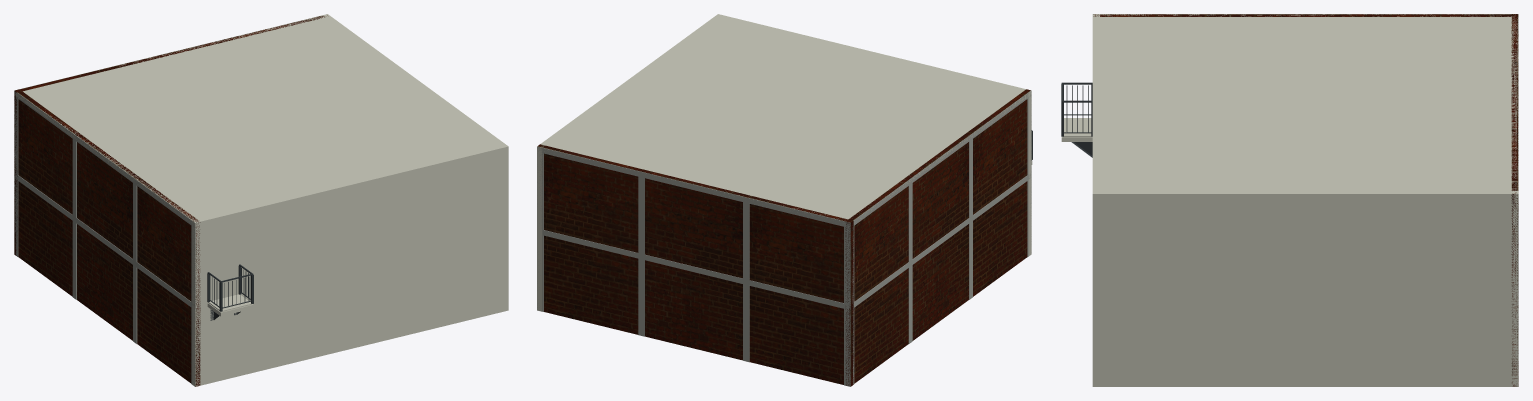
The model's file is building.glb.
3 views of the same model, side by side, from view 1: azimuth 30°, elevation 25°; view 2: azimuth 150°, elevation 25°; view 3: azimuth 270°, elevation 25° (orthographic). The views are drawn at different scales.
Parts seen in each view (by area): view 1: roof/house:0/roof_slab#0001, house:0/edge0/z0/house:0/edge0/z0/wall_0_0, house:0/edge3/z0/house:0/edge3/z0/wall_0_0, house:0/edge2/z0/house:0/edge2/z0/wall_0_0, house:0/edge3/z0/house:0/edge3/z0/beam_0_0, house:0/edge3/z0/house:0/edge3/z0/beam_1_0, house:0/edge1/z0/house:0/edge1/z0/wall_0_0, balcony/sample/balcony_platform#0001; view 2: roof/house:0/roof_slab#0001, house:0/edge2/z0/house:0/edge2/z0/wall_0_0, house:0/edge3/z0/house:0/edge3/z0/wall_0_0, house:0/edge1/z0/house:0/edge1/z0/wall_0_0, house:0/edge2/z0/house:0/edge2/z0/beam_1_0, house:0/edge2/z0/house:0/edge2/z0/beam_0_0, house:0/edge0/z0/house:0/edge0/z0/wall_0_0, house:0/edge3/z0/house:0/edge3/z0/beam_0_0, house:0/edge3/z0/house:0/edge3/z0/beam_1_0, house:0/edge2/z0/house:0/edge2/z0/column_2_0, house:0/edge2/z0/house:0/edge2/z0/column_2_1, house:0/edge2/z0/house:0/edge2/z0/column_3_0 (+3 smaller); view 3: house:0/edge1/z0/house:0/edge1/z0/wall_0_0, roof/house:0/roof_slab#0001, house:0/edge0/z0/house:0/edge0/z0/wall_0_0, house:0/edge2/z0/house:0/edge2/z0/wall_0_0, house:0/edge3/z0/house:0/edge3/z0/wall_0_0, balcony/sample/balcony_platform#0001.
Boxes of the visible parts, x1,y1,x2,y2 form: roof/house:0/roof_slab#0001: (15,14,506,225); house:0/edge0/z0/house:0/edge0/z0/wall_0_0: (192,144,508,386); house:0/edge3/z0/house:0/edge3/z0/wall_0_0: (17,89,200,386); house:0/edge2/z0/house:0/edge2/z0/wall_0_0: (14,15,327,255); house:0/edge3/z0/house:0/edge3/z0/beam_0_0: (14,173,195,309); house:0/edge3/z0/house:0/edge3/z0/beam_1_0: (14,92,195,227); house:0/edge1/z0/house:0/edge1/z0/wall_0_0: (323,14,508,311); balcony/sample/balcony_platform#0001: (208,294,252,312); roof/house:0/roof_slab#0001: (540,14,1031,223); house:0/edge2/z0/house:0/edge2/z0/wall_0_0: (538,144,853,386); house:0/edge3/z0/house:0/edge3/z0/wall_0_0: (845,89,1030,385); house:0/edge1/z0/house:0/edge1/z0/wall_0_0: (537,15,722,311); house:0/edge2/z0/house:0/edge2/z0/beam_1_0: (538,147,850,228); house:0/edge2/z0/house:0/edge2/z0/beam_0_0: (542,230,850,309); house:0/edge0/z0/house:0/edge0/z0/wall_0_0: (717,14,1031,256); house:0/edge3/z0/house:0/edge3/z0/beam_0_0: (850,172,1031,309); house:0/edge3/z0/house:0/edge3/z0/beam_1_0: (850,90,1031,227); house:0/edge2/z0/house:0/edge2/z0/column_2_0: (638,176,644,254); house:0/edge2/z0/house:0/edge2/z0/column_2_1: (638,258,644,336); house:0/edge2/z0/house:0/edge2/z0/column_3_0: (743,202,749,280); house:0/edge1/z0/house:0/edge1/z0/wall_0_0: (1092,191,1518,386); roof/house:0/roof_slab#0001: (1092,14,1518,198); house:0/edge0/z0/house:0/edge0/z0/wall_0_0: (1092,14,1099,386); house:0/edge2/z0/house:0/edge2/z0/wall_0_0: (1511,14,1518,386); house:0/edge3/z0/house:0/edge3/z0/wall_0_0: (1093,14,1517,16); balcony/sample/balcony_platform#0001: (1063,118,1092,137).
Size of the model in its own units: 12 by 6 by 12.89.
Materials: 4 (1 with a texture image).
